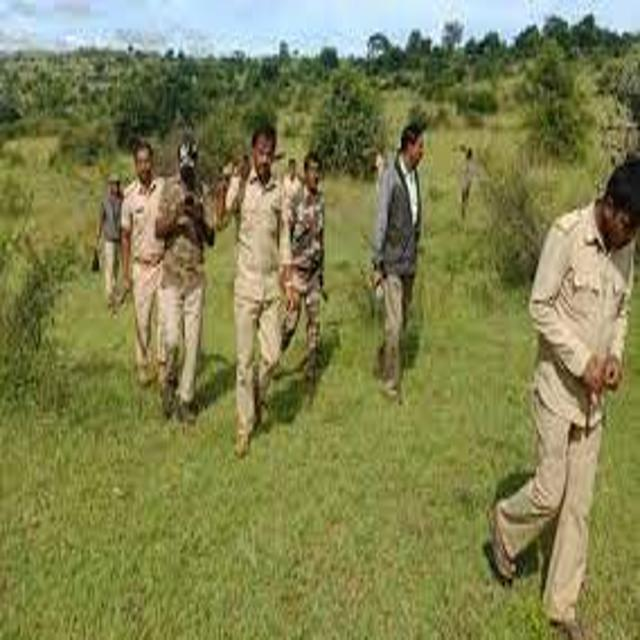poacher: (199, 77, 310, 492), (342, 91, 473, 433), (136, 110, 238, 485), (69, 159, 144, 324)
ranger: (453, 125, 640, 636), (262, 132, 359, 455), (107, 121, 181, 421)
